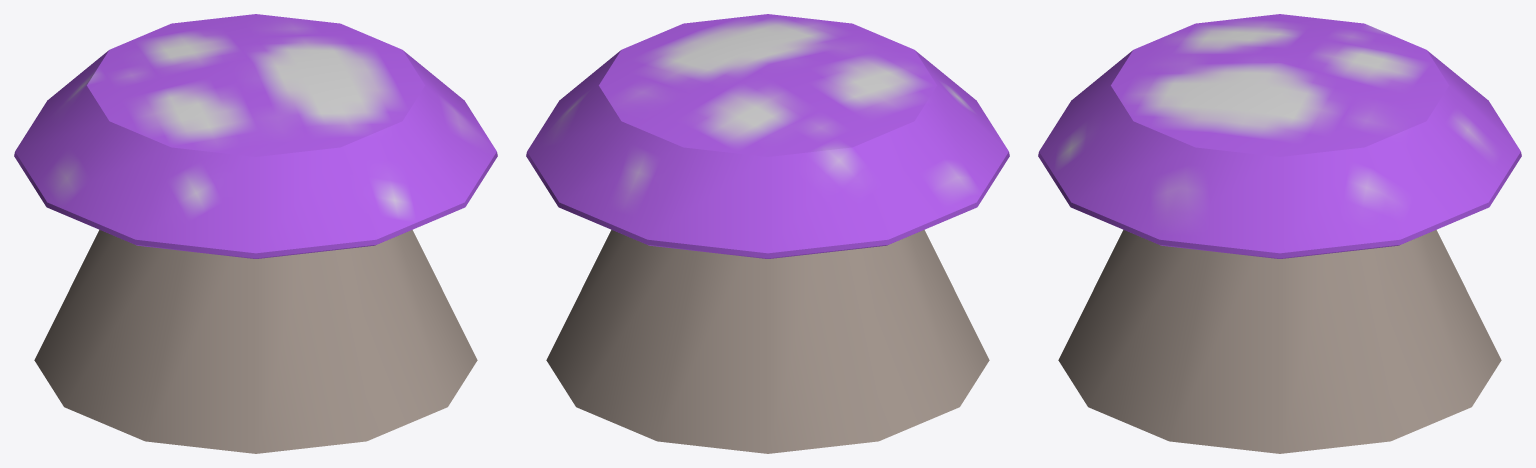
File: FBX_Seta02.fbx
The picture shows the model from 3 angles, left to right: view 1: azimuth 30°, elevation 25°; view 2: azimuth 150°, elevation 25°; view 3: azimuth 270°, elevation 25°; orthographic projection.
Parts seen in each view (by area): view 1: pCylinder19; view 2: pCylinder19; view 3: pCylinder19.
Part boxes in pixels (bbox=[...]): pCylinder19: bbox=[14, 14, 497, 453]; pCylinder19: bbox=[526, 14, 1009, 453]; pCylinder19: bbox=[1038, 14, 1521, 453].
Bounding box in the file's own units: 16.57 × 11.22 × 16.57.
